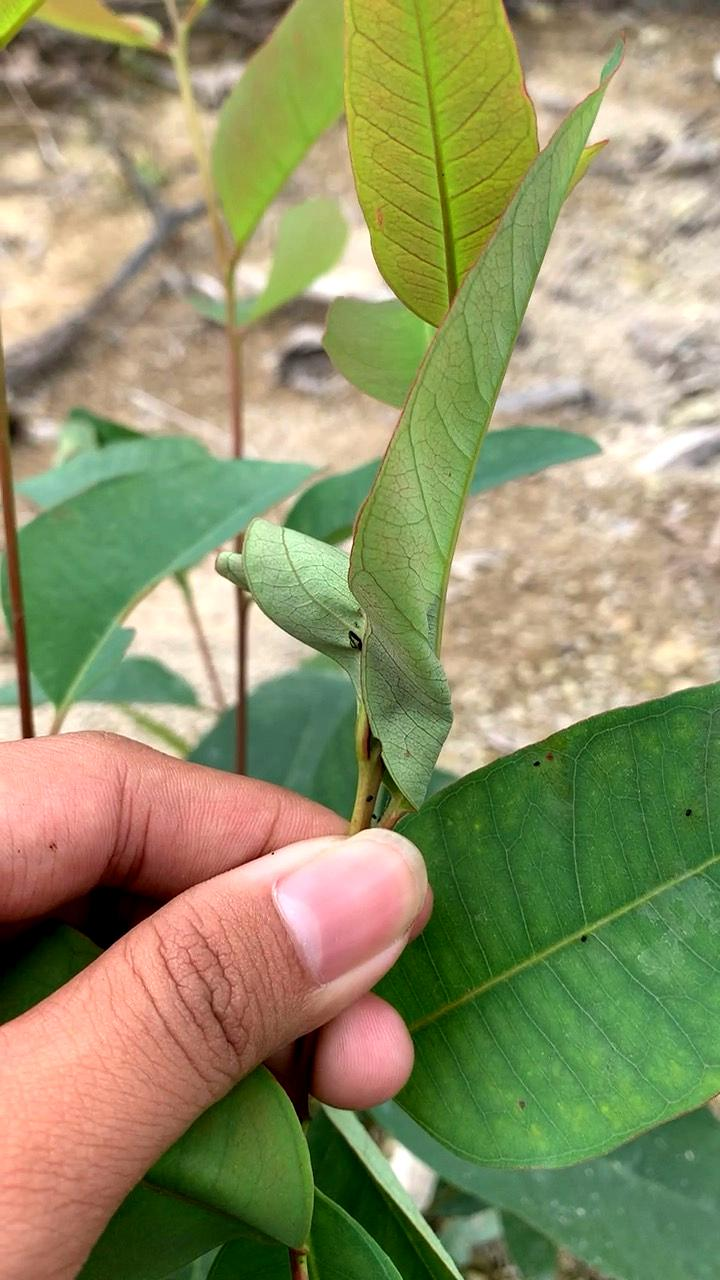Leaf Roller - Leaf: (201, 475, 463, 762)
